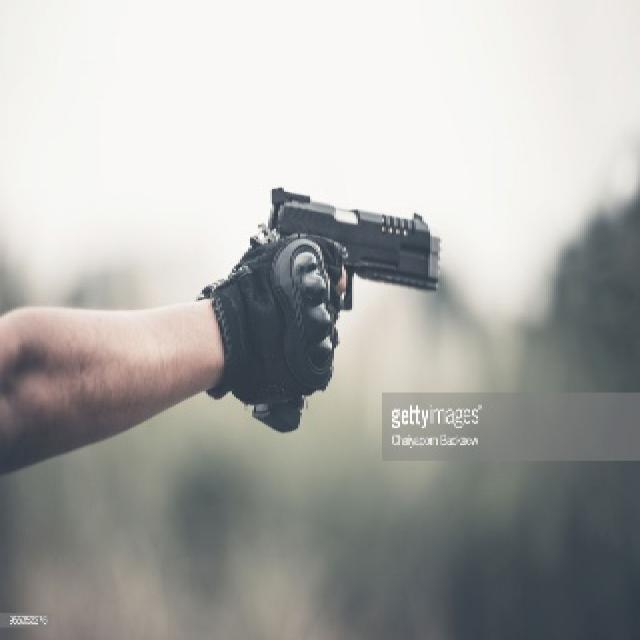weapon: (250, 179, 444, 434)
